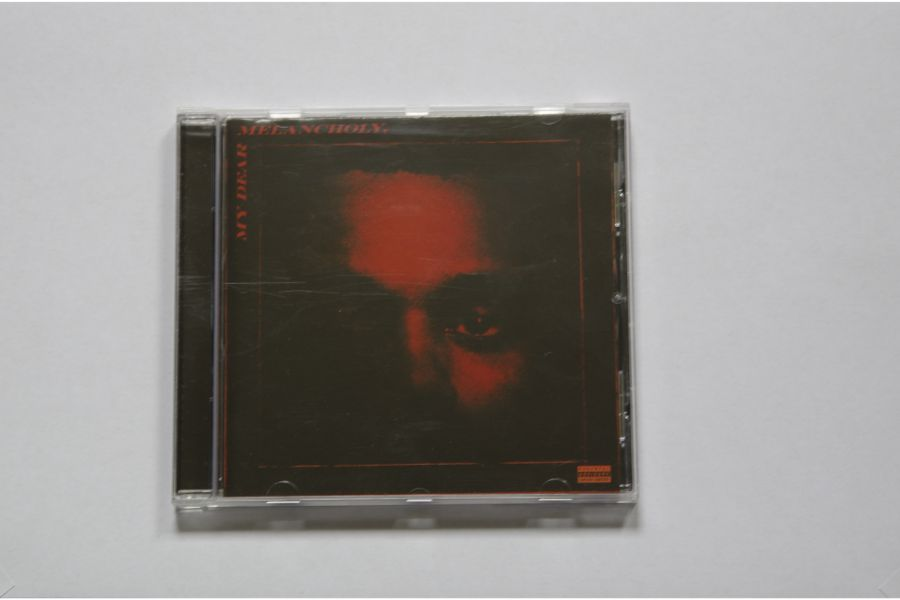album: (170, 107, 637, 509)
